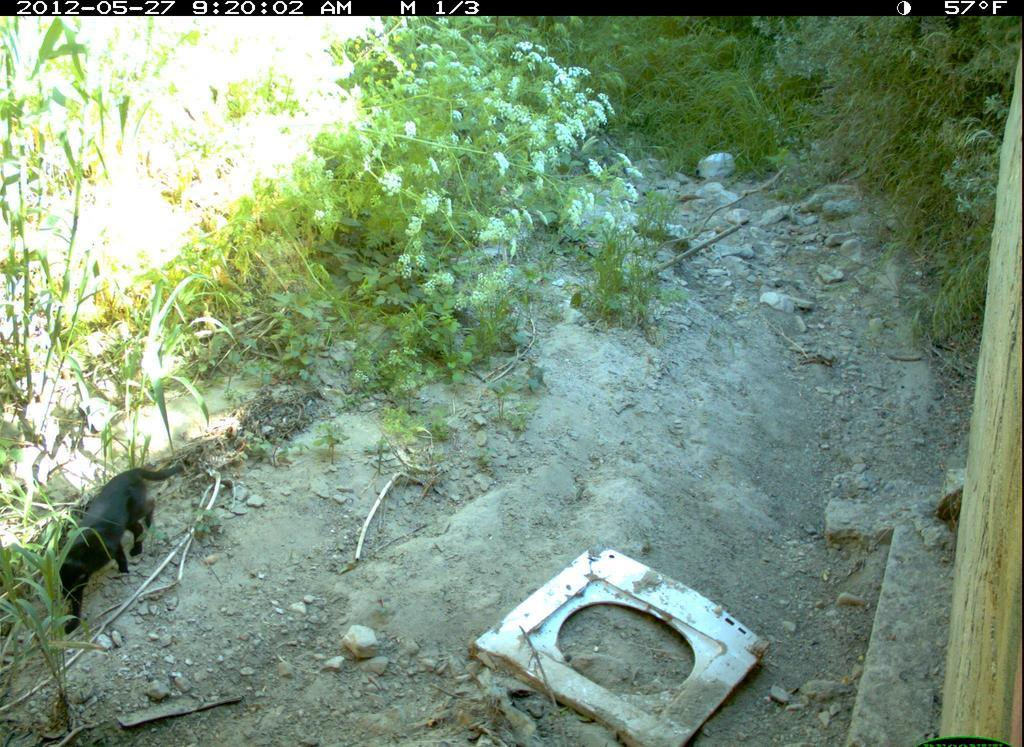cat: (43, 454, 205, 642)
